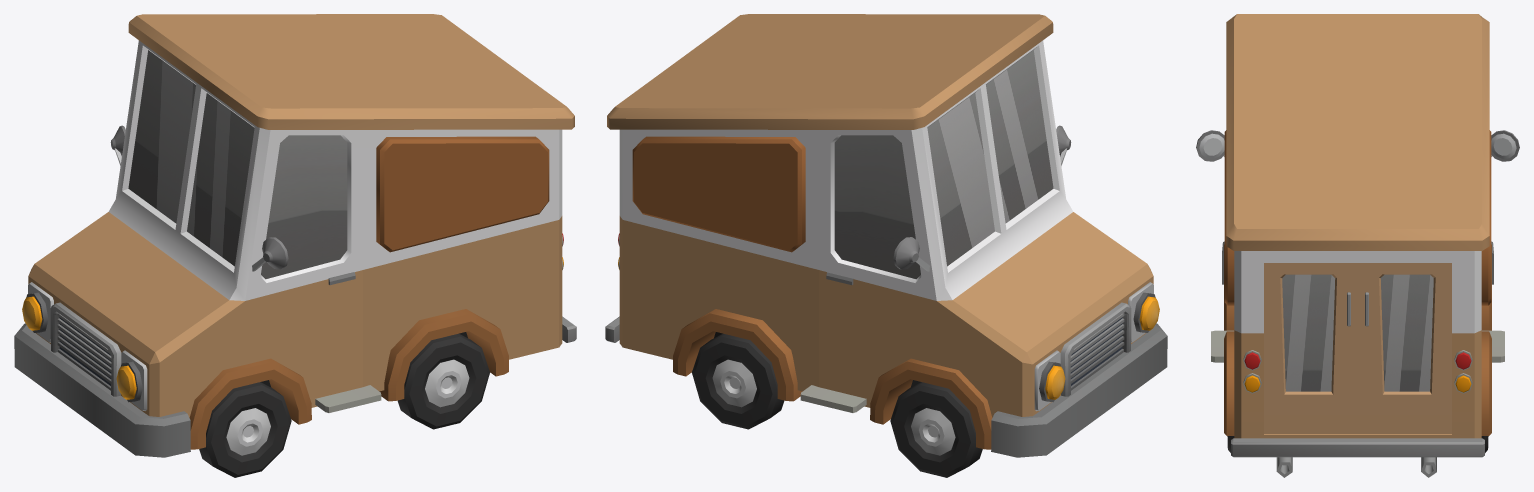
File: Car_15_L.gltf
3 renders of one model, left to right at view 1: azimuth 30°, elevation 25°; view 2: azimuth 150°, elevation 25°; view 3: azimuth 270°, elevation 25°, orthographic. The views are drawn at different scales.
Parts seen in each view (by area): view 1: Car_15_L, RL, FL; view 2: Car_15_L, RR, FR; view 3: Car_15_L.
Boxes of the visible parts, <box> form: Car_15_L: <box>14,14,576,457</box>; RL: <box>397,333,489,429</box>; FL: <box>199,382,291,477</box>; Car_15_L: <box>605,14,1167,457</box>; RR: <box>692,333,784,429</box>; FR: <box>890,382,982,477</box>; Car_15_L: <box>1196,14,1519,477</box>.
Bounding box in the file's own units: 2.75 × 2.13 × 1.8.
Materials: 4 (4 with a texture image).
